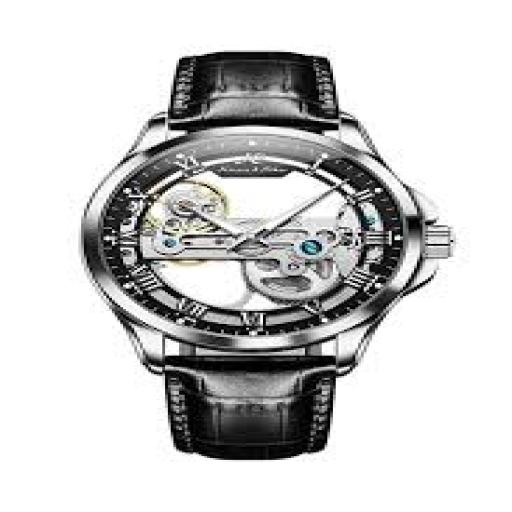KolSaati: (66, 32, 466, 468)
